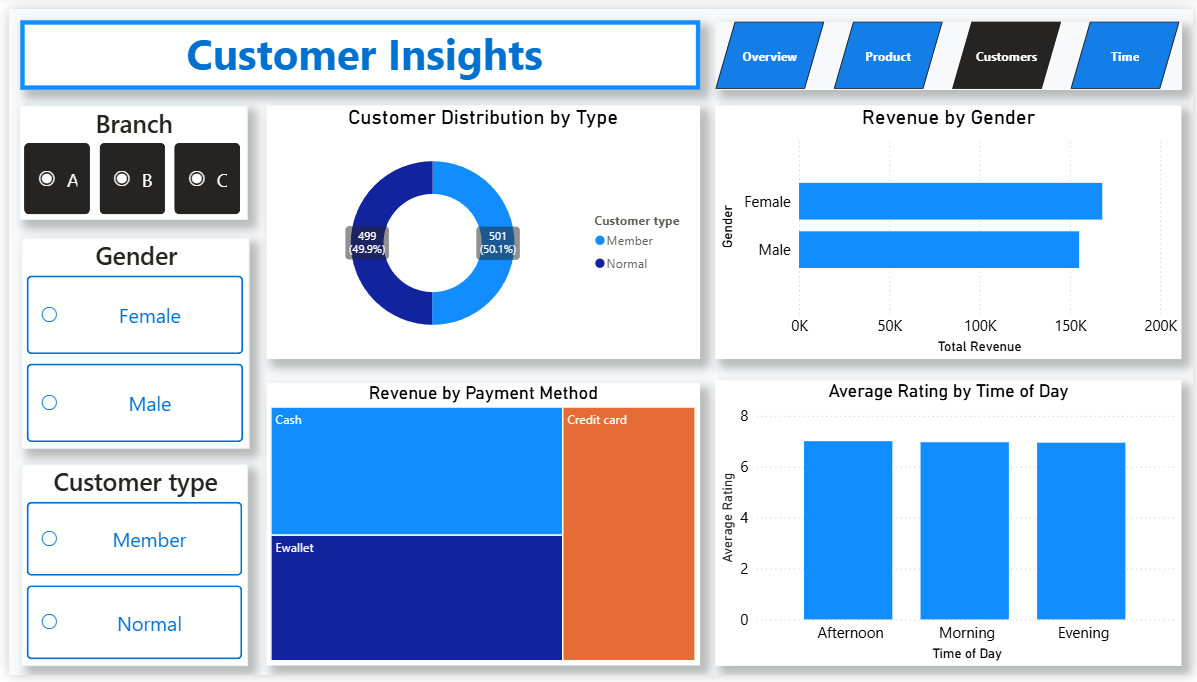

Layout of this report page (visuals, bound fields, positions):
{"tool":"powerbi","page":{"name":"Customers","canvas":[1280,720],"ordinal":2},"visuals":[{"type":"donutChart","title":"Customer Distribution by Type","fields":{"Category":["WalmartSalesData.Customer type"],"Y":["WalmartSalesData.Customer Count"]},"box":[278.6,104.3,468.6,274.3],"z":0},{"type":"barChart","title":"Revenue  by Gender","fields":{"Category":["WalmartSalesData.Gender"],"Y":["Sum(WalmartSalesData.Total Revenue)"]},"box":[762.9,104.3,504.3,274.3],"z":1000},{"type":"treemap","title":"Revenue by Payment Method","fields":{"Group":["WalmartSalesData.Payment"],"Values":["Sum(WalmartSalesData.Total Revenue)"]},"box":[278.6,404.3,468.6,305.7],"z":2000},{"type":"clusteredColumnChart","title":"Average Rating by Time of Day","fields":{"Category":["WalmartSalesData.Time of Day"],"Y":["Avg(WalmartSalesData.Average Rating)"]},"box":[762.9,401.4,504.3,308.6],"z":3000},{"type":"advancedSlicerVisual","fields":{"Values":["WalmartSalesData csv.Branch"]},"box":[11.4,104.3,247.1,124.3],"z":4000},{"type":"pageNavigator","box":[763.3,13.3,505,73.3],"z":5000},{"type":"textbox","title":"Customer Insights","box":[11.7,11.7,735,75],"z":6000},{"type":"advancedSlicerVisual","fields":{"Values":["WalmartSalesData.Gender"]},"box":[13.3,246.7,246.7,228.3],"z":7000},{"type":"advancedSlicerVisual","fields":{"Values":["WalmartSalesData.Customer type"]},"box":[13.3,491.7,245,218.3],"z":8000}]}

Visuals, with their boxes in screenshot pixels (x1, y1, x2, y2), scaled from the page's 1280x720 canvas onto the 1197x682 screenshot:
"Customer Distribution by Type" donutChart: left=261, top=99, right=699, bottom=359
"Revenue  by Gender" barChart: left=713, top=99, right=1185, bottom=359
"Revenue by Payment Method" treemap: left=261, top=383, right=699, bottom=673
"Average Rating by Time of Day" clusteredColumnChart: left=713, top=380, right=1185, bottom=673
advancedSlicerVisual - WalmartSalesData csv.Branch: left=11, top=99, right=242, bottom=217
pageNavigator: left=714, top=13, right=1186, bottom=82
"Customer Insights" textbox: left=11, top=11, right=698, bottom=82
advancedSlicerVisual - WalmartSalesData.Gender: left=12, top=234, right=243, bottom=450
advancedSlicerVisual - WalmartSalesData.Customer type: left=12, top=466, right=242, bottom=673
